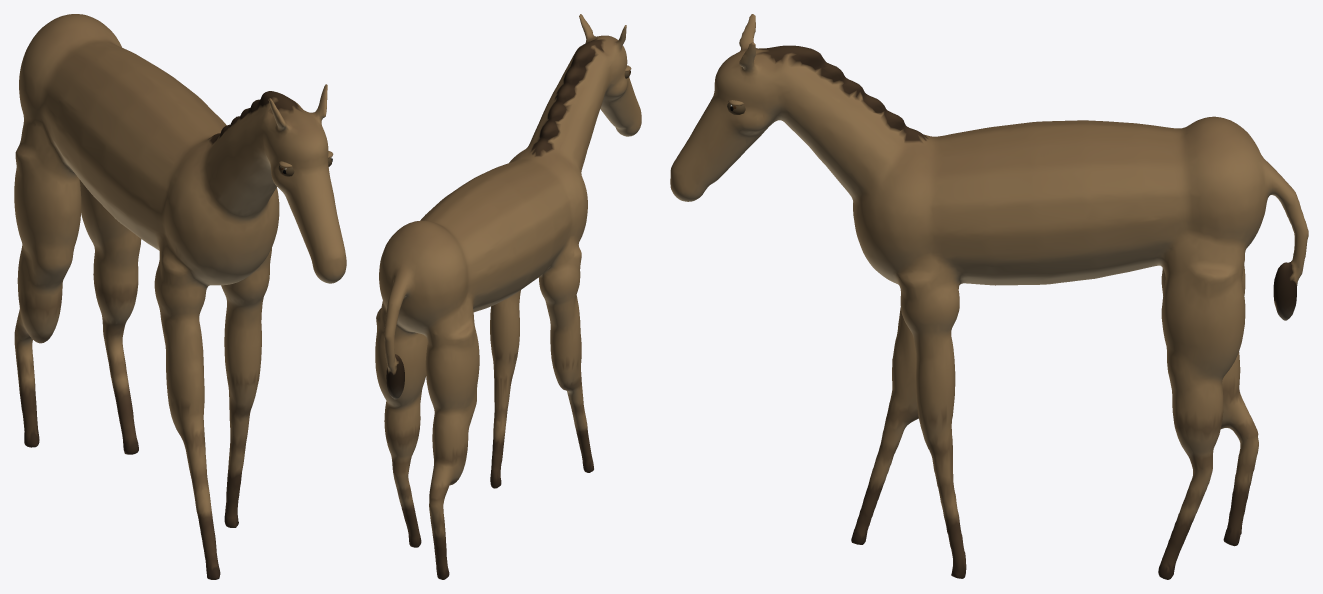
File: MerychippusInsignis.fbx
3 renders of one model, left to right at view 1: azimuth 30°, elevation 25°; view 2: azimuth 150°, elevation 25°; view 3: azimuth 270°, elevation 25°, orthographic. The views are drawn at different scales.
Visible parts, largest first — view 1: MerychippusInsignis; view 2: MerychippusInsignis; view 3: MerychippusInsignis.
Part boxes in pixels (x1=…): MerychippusInsignis: x1=14, y1=14, x2=346, y2=579; MerychippusInsignis: x1=375, y1=14, x2=641, y2=579; MerychippusInsignis: x1=670, y1=14, x2=1308, y2=579.
Size of the model in its own units: 0.3237 by 1.38 by 1.49.
